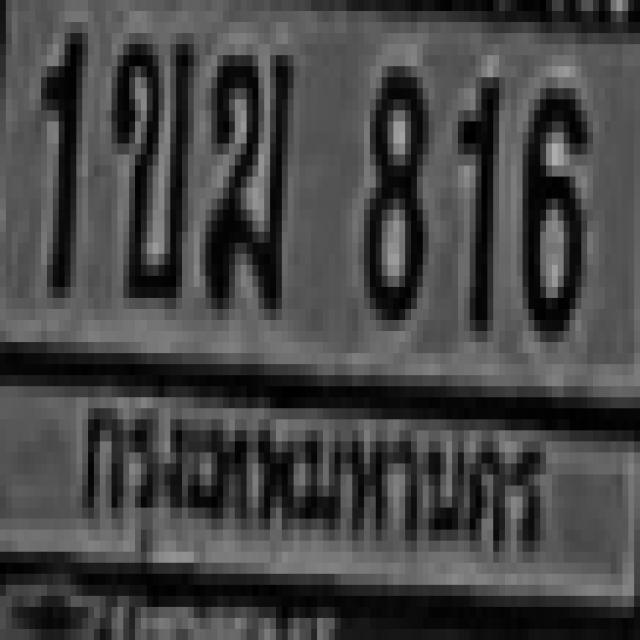1: (38, 22, 79, 287), (455, 66, 496, 320)
11KhorKhai: (108, 28, 190, 292)
15KhorRaKhang: (200, 44, 288, 298)
6: (517, 77, 581, 331)
8: (358, 55, 423, 309)
Bangkok: (70, 384, 552, 573)
